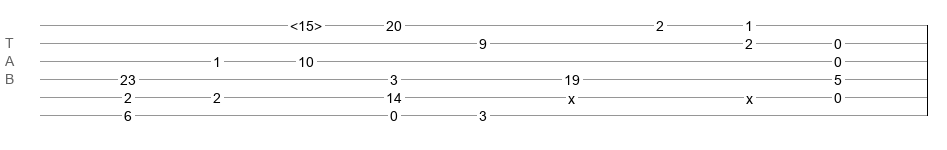0: (390, 108, 398, 118), (834, 54, 842, 64), (834, 90, 842, 100), (834, 36, 842, 46)
1: (213, 54, 221, 64), (745, 18, 753, 28)
10: (298, 54, 314, 64)
14: (386, 90, 402, 100)
19: (564, 72, 580, 82)
2: (124, 90, 132, 100), (213, 90, 221, 100), (656, 18, 664, 28), (745, 36, 753, 46)
20: (386, 18, 402, 28)
23: (120, 72, 136, 82)
3: (390, 72, 398, 82), (479, 108, 487, 118)
5: (834, 72, 842, 82)
6: (124, 108, 132, 118)
9: (479, 36, 487, 46)
harmonic: (290, 18, 322, 28)
x: (568, 91, 575, 99), (746, 91, 753, 99)
